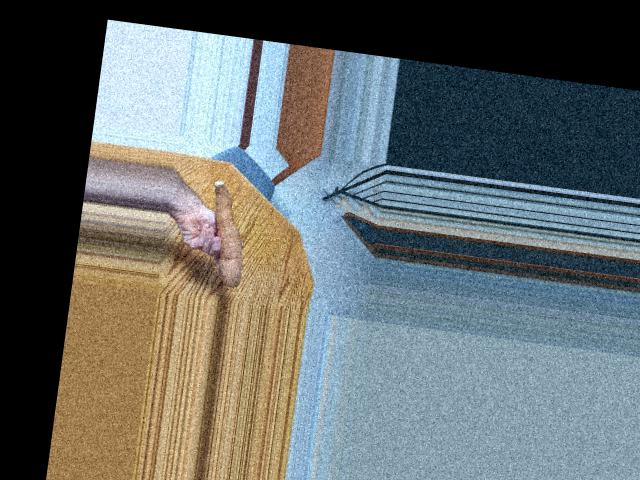sweet_potato: (197, 178, 256, 285)
